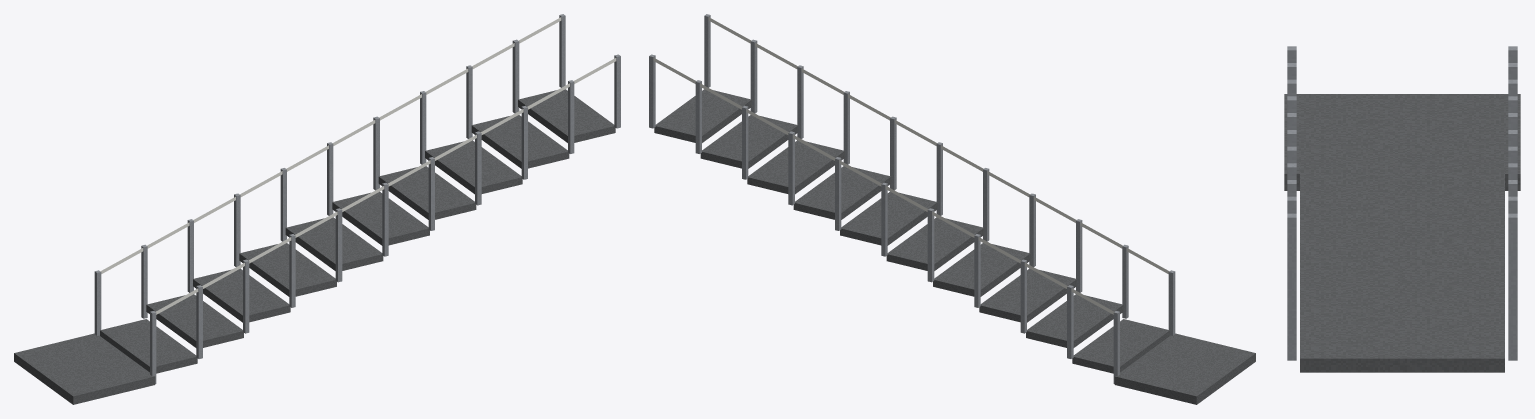
File: ship_brow.glb
3 views of the same model, side by side, from view 1: azimuth 30°, elevation 25°; view 2: azimuth 150°, elevation 25°; view 3: azimuth 270°, elevation 25° (orthographic). The views are drawn at different scales.
Visible parts, largest first — view 1: ship_brow; view 2: ship_brow; view 3: ship_brow.
Boxes of the visible parts, x1,y1,x2,y2 form: ship_brow: [14, 14, 620, 404]; ship_brow: [649, 14, 1255, 404]; ship_brow: [1284, 46, 1520, 372].
Size of the model in its own units: 8.03 by 3 by 1.5.
3 materials, 3 textured.
